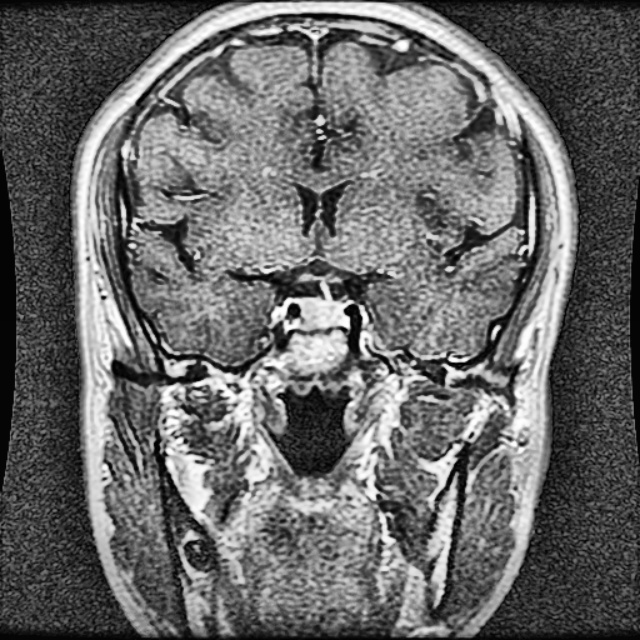Pituitary: (302, 298, 342, 327)
